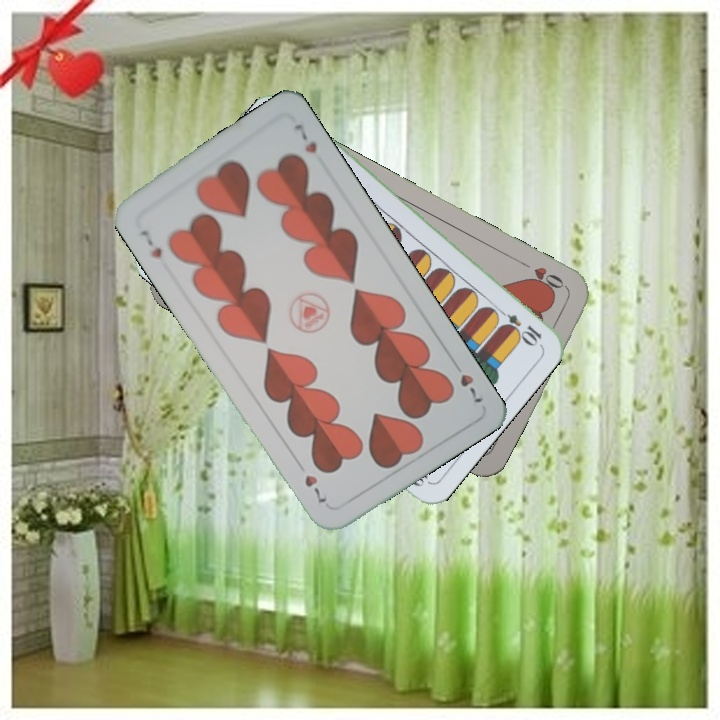E10: (491, 303, 545, 348)
H7: (447, 355, 486, 408), (136, 225, 165, 261)
HO: (516, 257, 571, 297)
